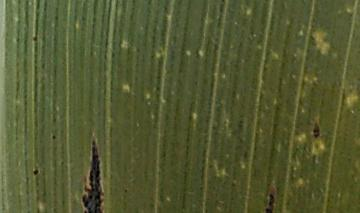tarspot: (82, 137, 104, 213), (266, 194, 274, 213), (312, 123, 321, 139), (32, 168, 39, 176), (31, 35, 38, 42), (123, 187, 129, 194), (52, 134, 57, 140)
